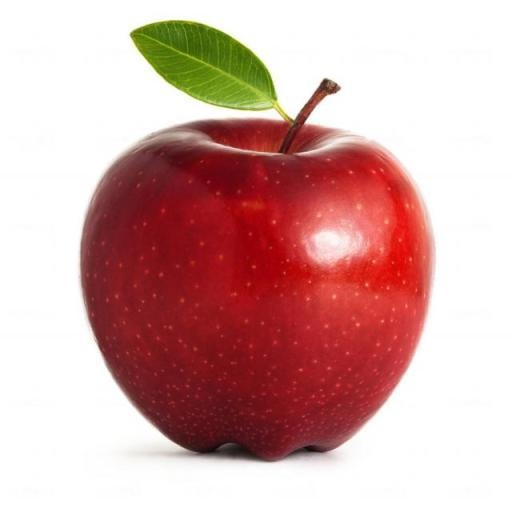fruit: (80, 22, 432, 459)
